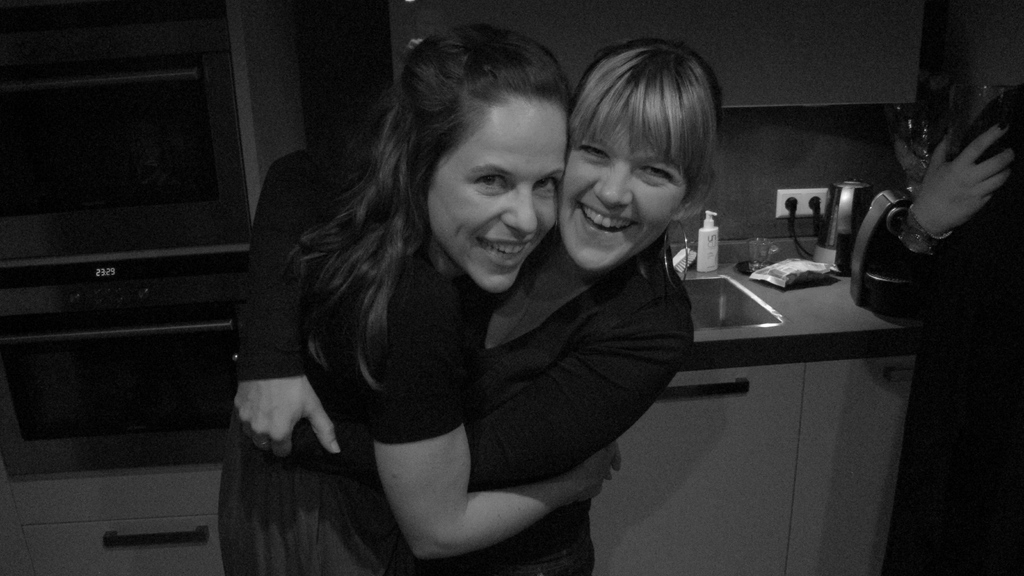Human-face: (429, 101, 570, 297), (559, 136, 699, 270)
